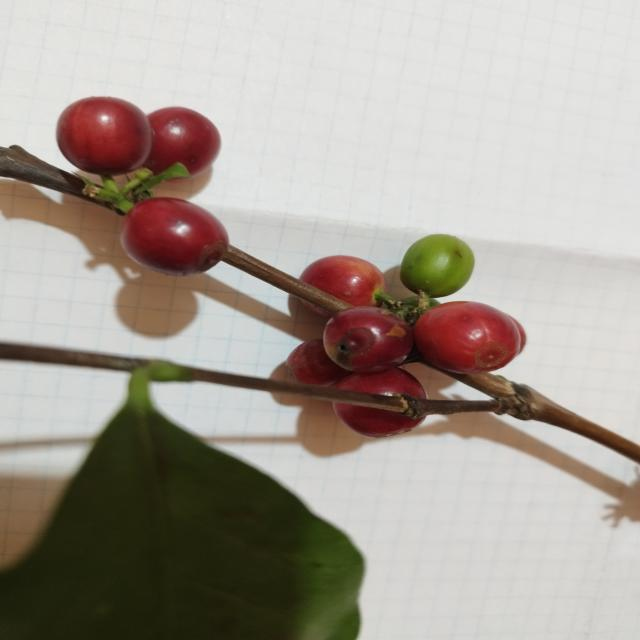Infectado: (323, 306, 414, 373), (143, 107, 222, 175)
Sano: (119, 197, 230, 277), (412, 303, 528, 379), (57, 97, 152, 176), (399, 234, 475, 297)
